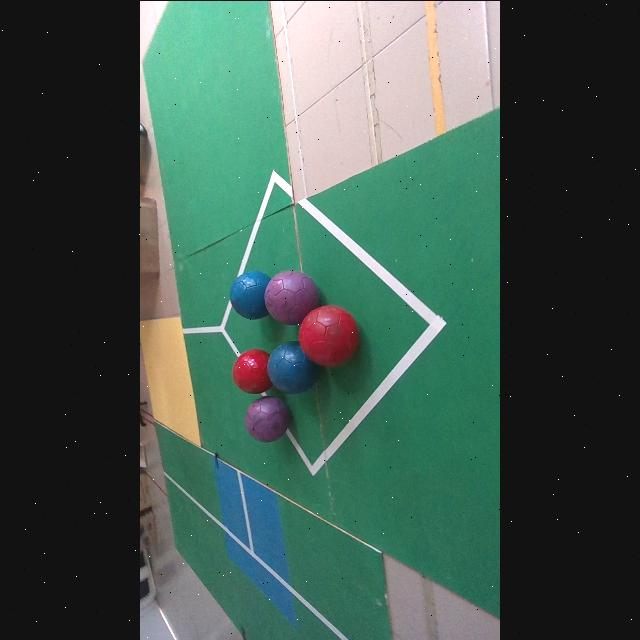B: (267, 340, 319, 393), (230, 269, 270, 318)
P: (265, 269, 319, 324), (245, 395, 291, 442)
R: (299, 305, 359, 365), (232, 347, 272, 393)
